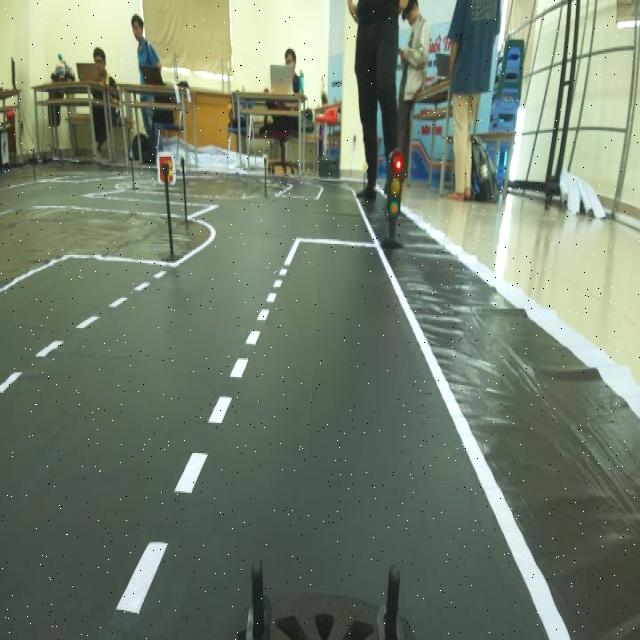trafficlight: (374, 140, 411, 258)
